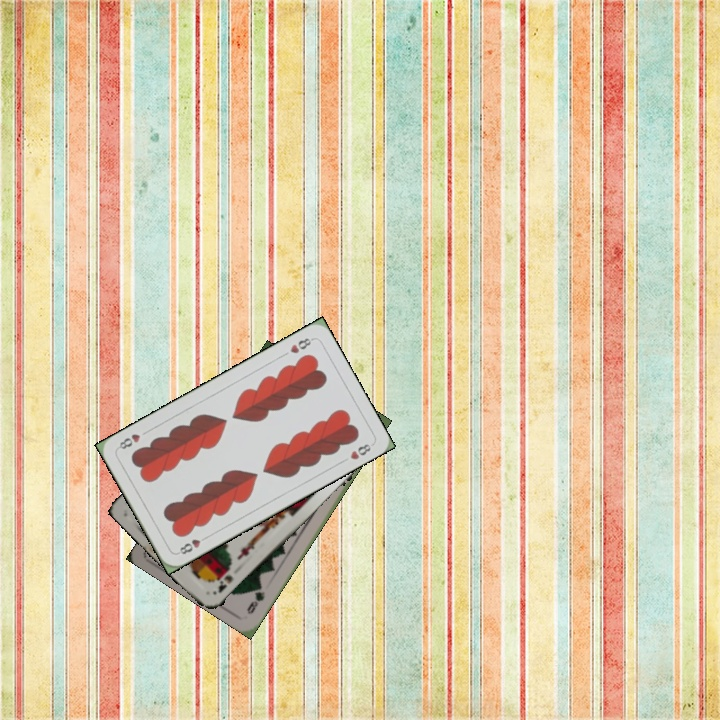G9: (243, 580, 267, 617)
H8: (173, 532, 211, 557), (286, 334, 316, 356)
SK: (213, 564, 236, 595)
